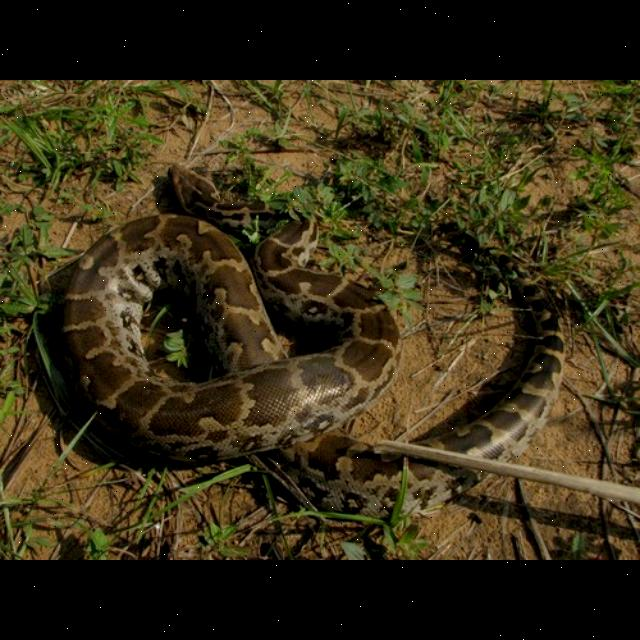snake: (56, 152, 576, 518)
